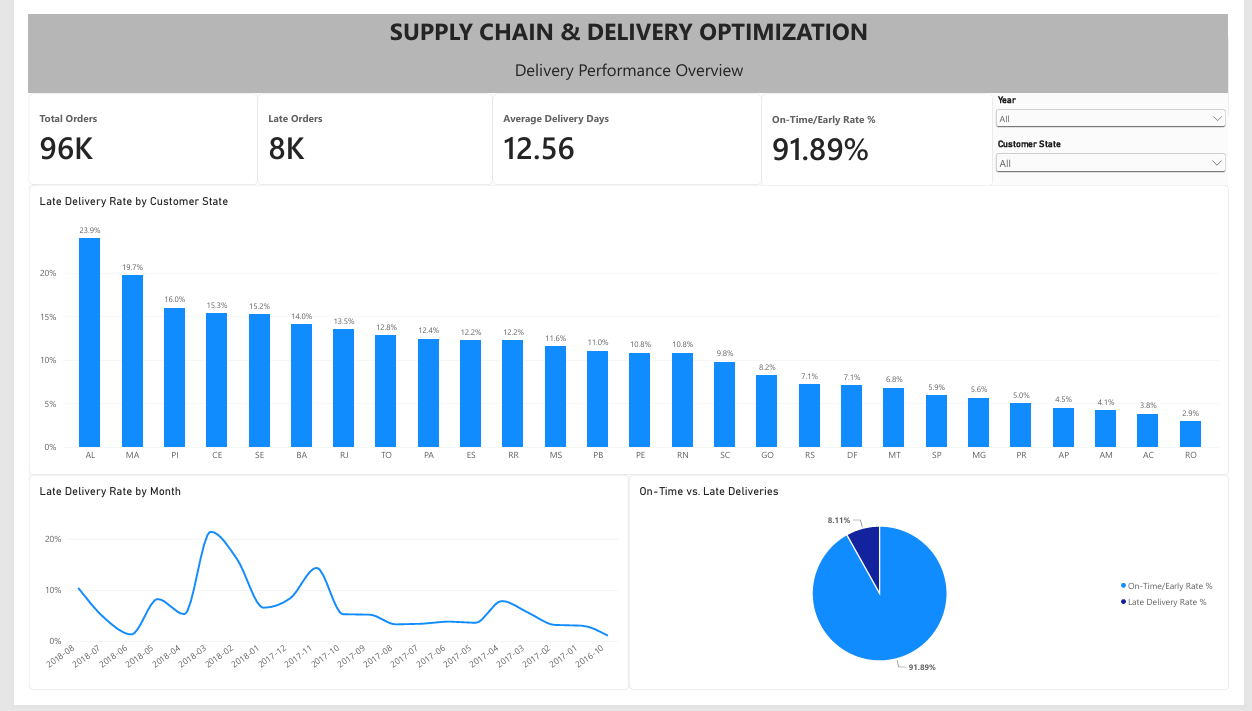

What the dashboard file says about the page in this screenshot:
{"tool":"powerbi","page":{"name":"Page 1","canvas":[1920,1080],"ordinal":0},"visuals":[{"type":"cardVisual","fields":{"Data":["powerbi_delivery_orders.Total Orders"]},"box":[0,126,366,146],"z":0},{"type":"cardVisual","fields":{"Data":["powerbi_delivery_orders.Late Orders"]},"box":[366,126,376,146],"z":1000},{"type":"cardVisual","fields":{"Data":["powerbi_delivery_orders.Average Delivery Days"]},"box":[742,126,430,146],"z":2000},{"type":"cardVisual","fields":{"Data":["powerbi_delivery_orders.On-Time/Early Rate %"]},"box":[1172,126,370,148],"z":3000},{"type":"columnChart","title":"Late Delivery Rate by Customer State","fields":{"Category":["powerbi_delivery_orders.customer_state"],"Y":["powerbi_delivery_orders.Late Delivery Rate %"]},"box":[0,272,1920,464],"z":4000},{"type":"pieChart","title":"On-Time vs. Late Deliveries","fields":{"Y":["powerbi_delivery_orders.On-Time/Early Rate %","powerbi_delivery_orders.Late Delivery Rate %"]},"box":[960,736,960,344],"z":6000},{"type":"textbox","box":[0,0,1920.4,125.6],"z":8000},{"type":"slicer","fields":{"Values":["powerbi_delivery_orders.order_month.Variation.Date Hierarchy.Year"]},"box":[1542,128,378,72],"z":9000},{"type":"slicer","fields":{"Values":["powerbi_delivery_orders.customer_state"]},"box":[1542,198,378,74],"z":9001},{"type":"lineChart","title":"Late Delivery Rate by Month","fields":{"Category":["powerbi_delivery_orders.MonthText"],"Y":["powerbi_delivery_orders.Late Delivery Rate %"]},"box":[0,736,960,344],"z":9002}]}

Visuals, with their boxes in screenshot pixels (x1, y1, x2, y2), scaled from the page's 1920x1080 canvas onto the 1252x711 screenshot:
cardVisual - powerbi_delivery_orders.Total Orders: [0,83,239,179]
cardVisual - powerbi_delivery_orders.Late Orders: [239,83,484,179]
cardVisual - powerbi_delivery_orders.Average Delivery Days: [484,83,764,179]
cardVisual - powerbi_delivery_orders.On-Time/Early Rate %: [764,83,1006,180]
"Late Delivery Rate by Customer State" columnChart: [0,179,1251,485]
"On-Time vs. Late Deliveries" pieChart: [626,485,1251,710]
textbox: [0,0,1251,83]
slicer - powerbi_delivery_orders.order_month.Variation.Date Hierarchy.Year: [1006,84,1251,132]
slicer - powerbi_delivery_orders.customer_state: [1006,130,1251,179]
"Late Delivery Rate by Month" lineChart: [0,485,626,710]
